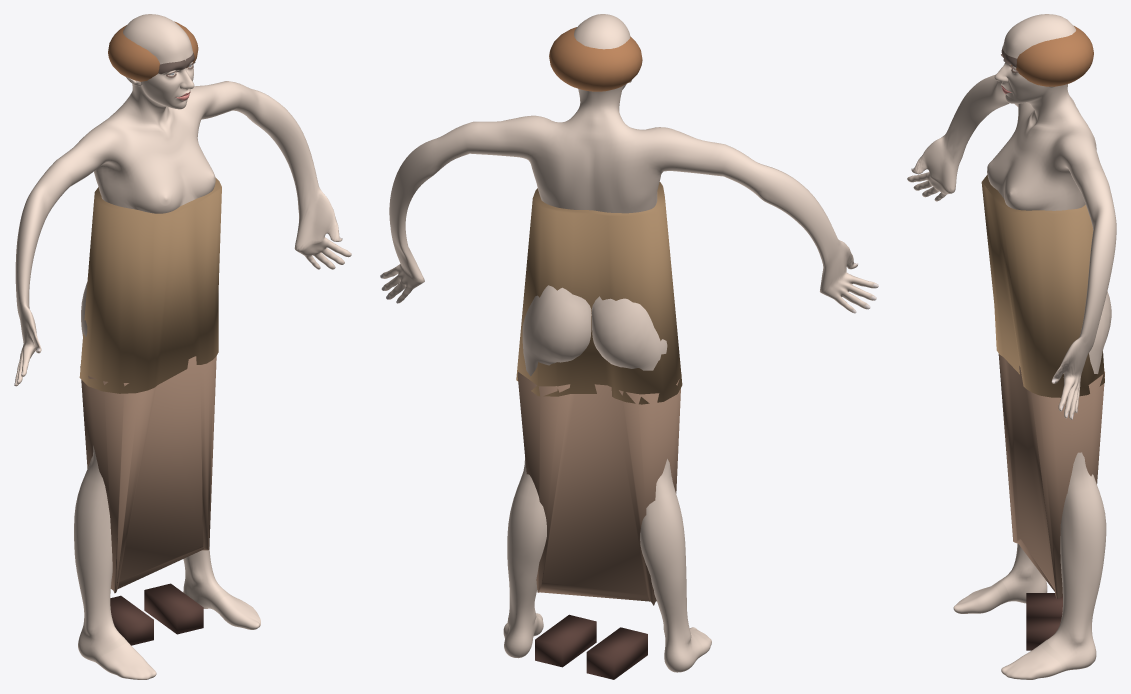
The model's file is hm_ped_ivy_v14.glb.
3 renders of one model, left to right at view 1: azimuth 30°, elevation 25°; view 2: azimuth 150°, elevation 25°; view 3: azimuth 270°, elevation 25°, orthographic. The views are drawn at different scales.
Visible parts, largest first — view 1: hm_ped_ivy; view 2: hm_ped_ivy; view 3: hm_ped_ivy.
Part boxes in pixels (left/top/right/bottom): hm_ped_ivy: left=14, top=14, right=351, bottom=679; hm_ped_ivy: left=380, top=14, right=878, bottom=679; hm_ped_ivy: left=907, top=14, right=1116, bottom=679.
Size of the model in its own units: 1.15 by 1.66 by 0.5093.
